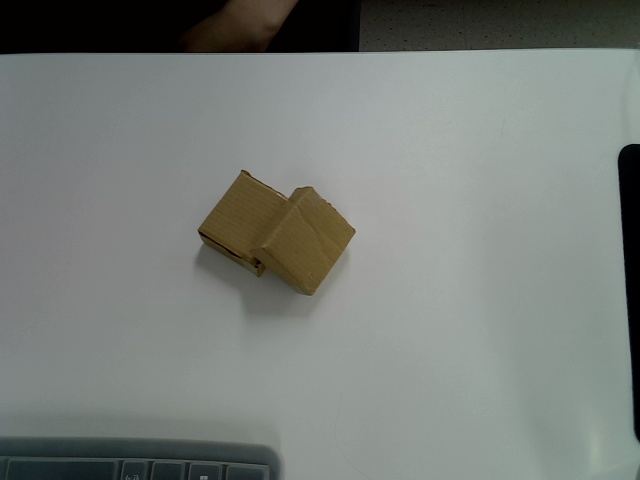normal: (249, 186, 356, 296), (198, 170, 291, 277)
